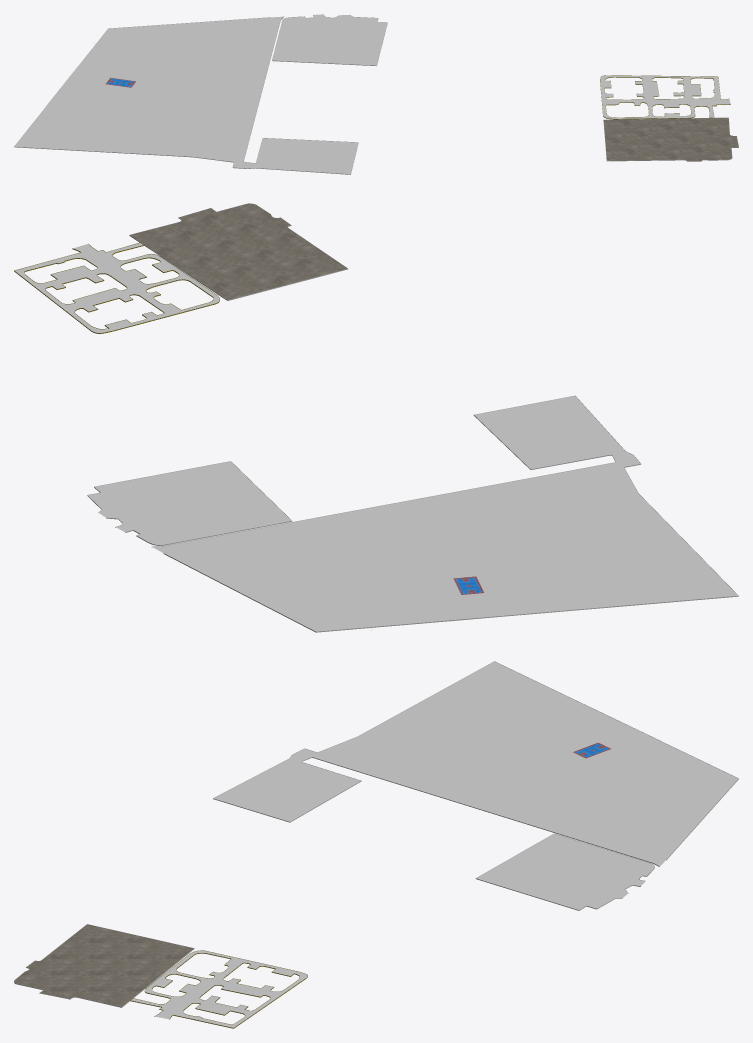
Rendered from road_p01_04.fbx.
3 views of the same model, one above another, from view 1: azimuth 30°, elevation 25°; view 2: azimuth 150°, elevation 25°; view 3: azimuth 270°, elevation 25° (orthographic). The views are drawn at different scales.
Visible parts, largest first — view 1: road_p01_04; view 2: road_p01_04; view 3: road_p01_04.
Boxes of the visible parts, box(x1,y1,x2,y2) form: road_p01_04: box(14, 14, 738, 174); road_p01_04: box(14, 203, 738, 632); road_p01_04: box(14, 661, 738, 1028).
Bounding box in the file's own units: 77242 × 70 × 64502.
